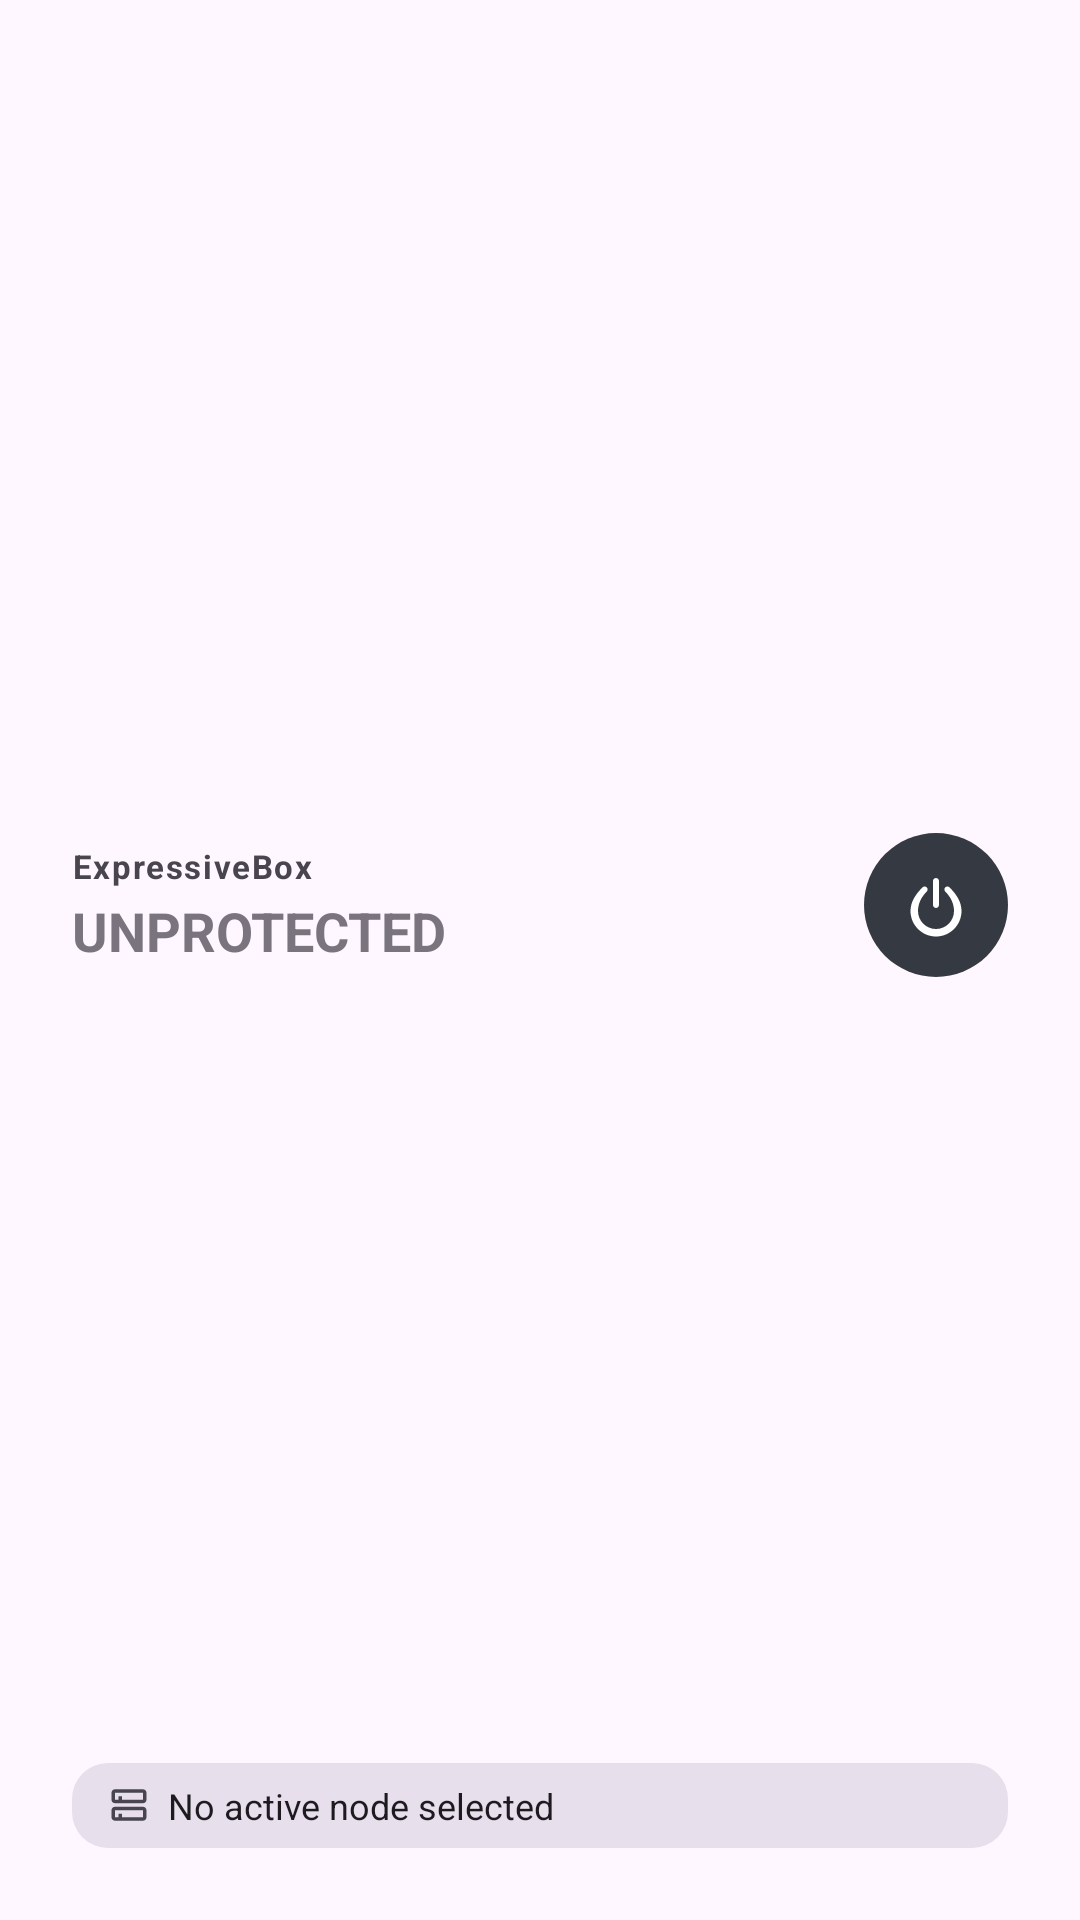

Icons on this 1080px×1920px Android screen, each with the point to tap as (x=x, y=y):
Toggle Connection: (x=936, y=905)
